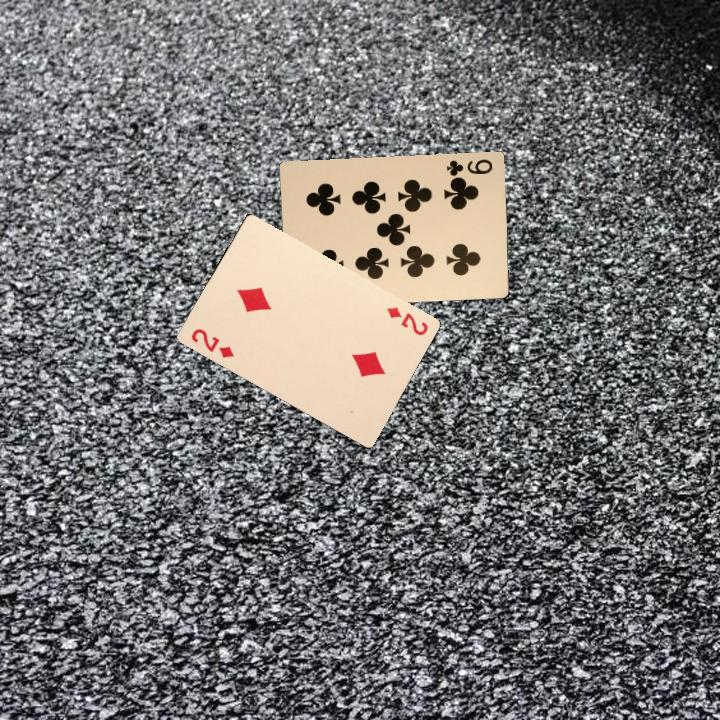2d: (187, 323, 236, 361), (383, 303, 431, 338)
9c: (442, 155, 495, 178)
